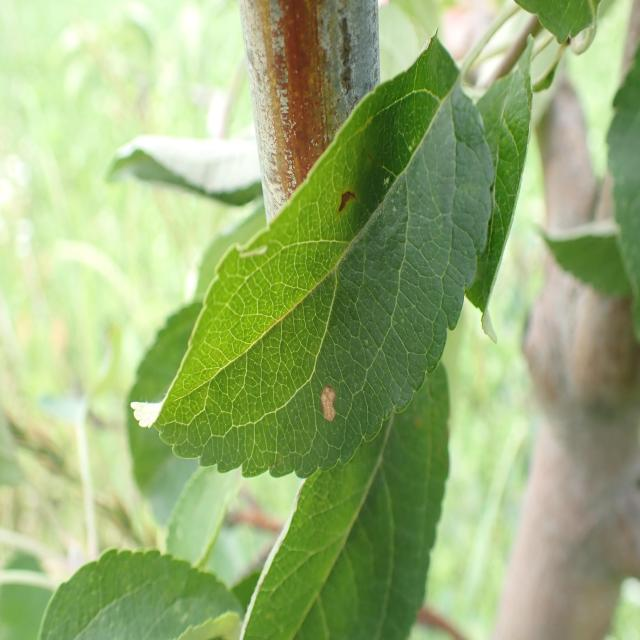frog-eye-leaf-spot: (129, 25, 497, 481)
